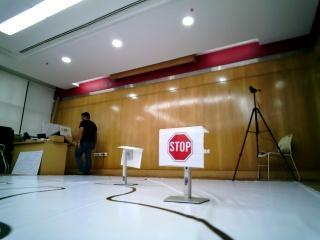stop: (163, 128, 202, 162)
